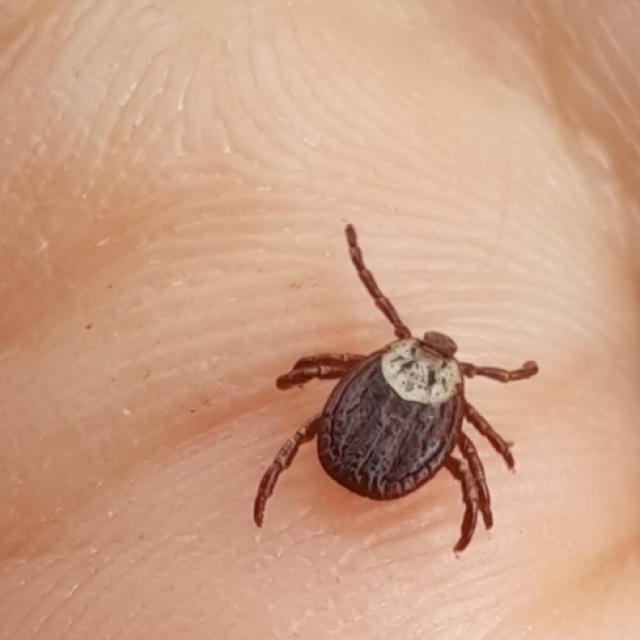Dermacentor Reticulatus-F: (253, 224, 539, 554)
